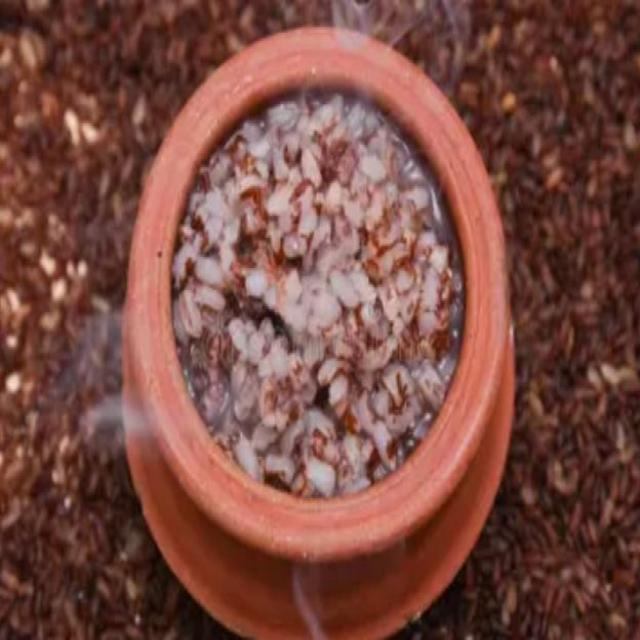PORRIDGE: (170, 90, 467, 496)
